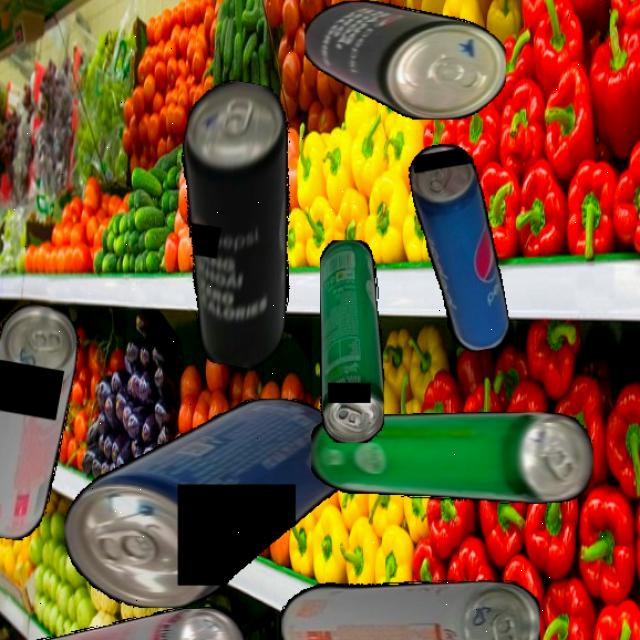debris: (64, 397, 351, 608), (148, 74, 324, 373), (310, 412, 594, 504), (303, 1, 506, 120), (405, 138, 513, 356), (0, 300, 85, 544), (280, 580, 540, 640), (319, 239, 384, 443), (1, 607, 244, 640)
